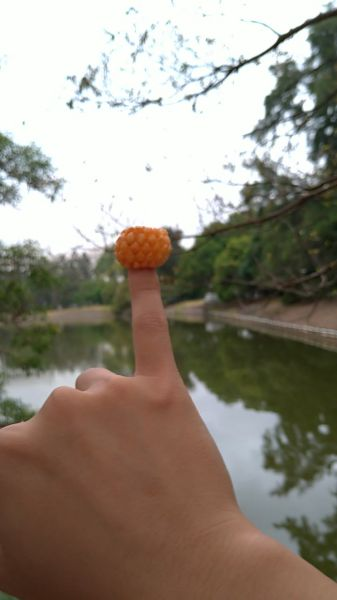eggs: (113, 224, 171, 270)
